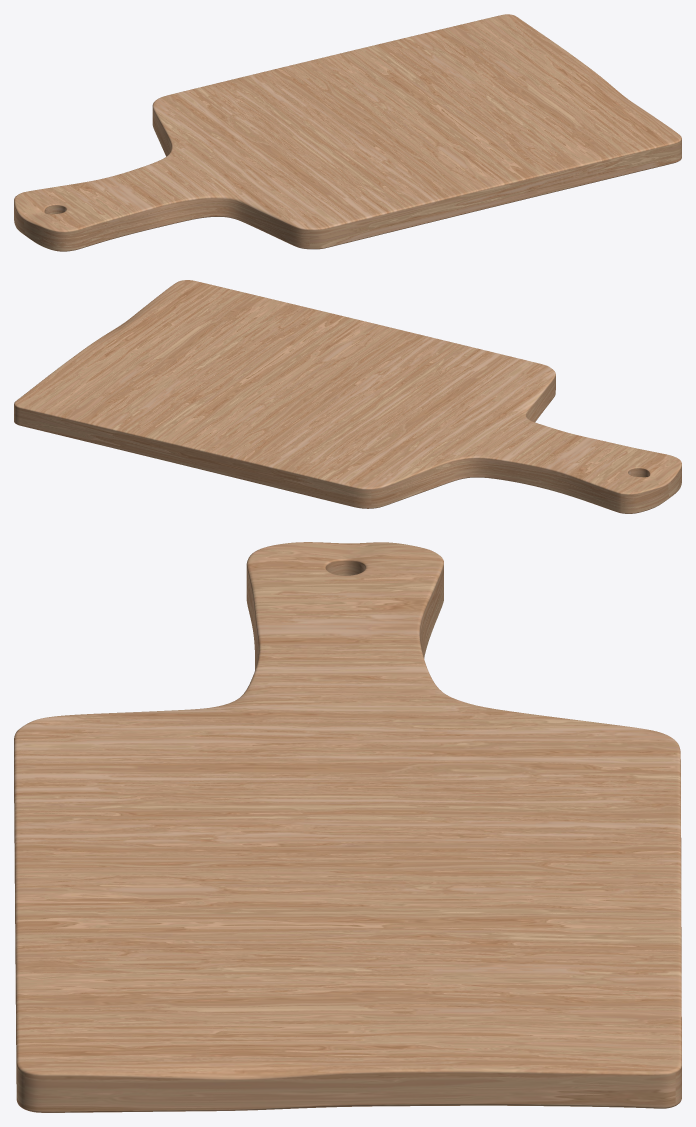
The model's file is Board.fbx.
3 renders of one model, top to bottom at view 1: azimuth 30°, elevation 25°; view 2: azimuth 150°, elevation 25°; view 3: azimuth 270°, elevation 25°, orthographic. The views are drawn at different scales.
Parts seen in each view (by area): view 1: Cutting Table.001; view 2: Cutting Table.001; view 3: Cutting Table.001.
Part boxes in pixels (<box>): Cutting Table.001: <box>14,14,681,251</box>; Cutting Table.001: <box>14,280,681,513</box>; Cutting Table.001: <box>14,542,681,1112</box>.
Bounding box in the file's own units: 128 × 4.99 × 67.25.
1 material, 1 textured.
